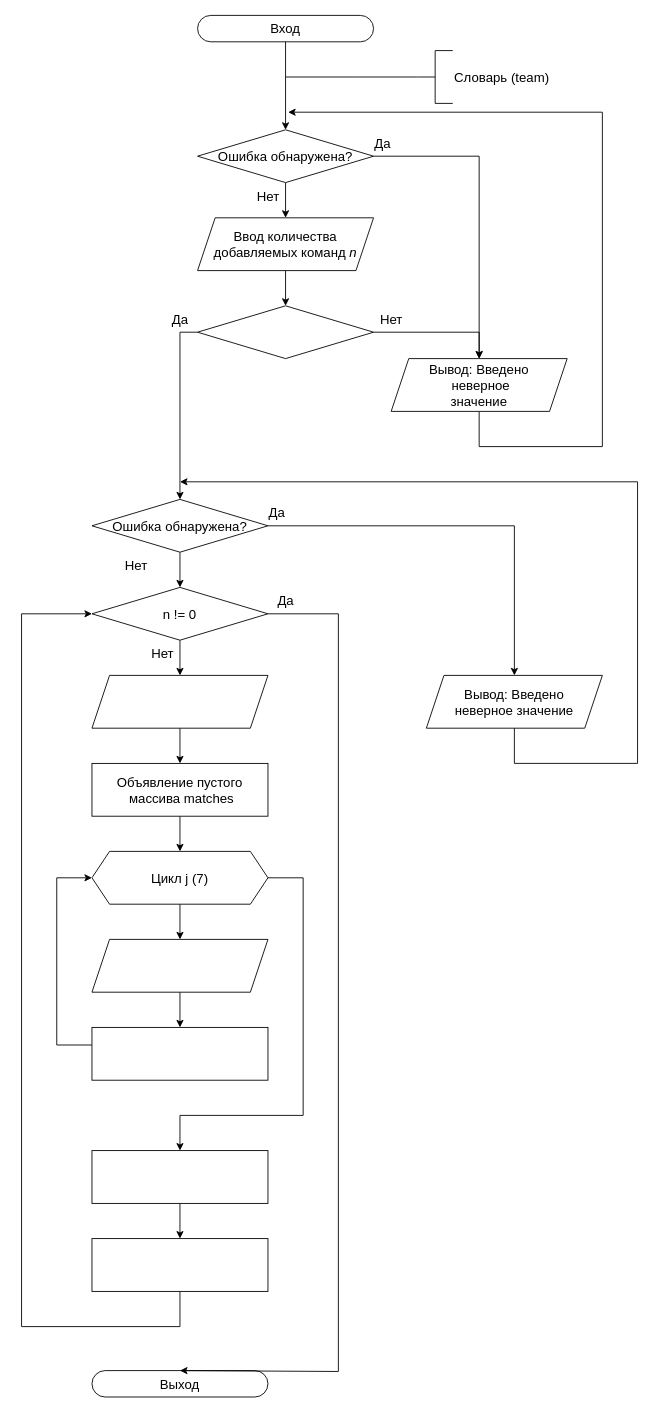
Some shapes in this 660 by 1412 pixel diagram are drawn without their labels. Here are the shapes that lost their labels. From the top down, the box of each, then its label:
(197, 305, 374, 359): n > 0
(91, 675, 268, 728): Ввод названия клуба
(91, 939, 268, 992): Ввод результата j-ого матча
(91, 1027, 268, 1080): Занесение результата в массив matches
(91, 1150, 268, 1203): Внесение данных о матче и клубе в словарь
(91, 1238, 268, 1291): n -= 1
